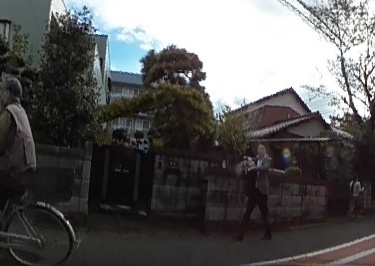person: (240, 138, 272, 243), (349, 175, 364, 215)
